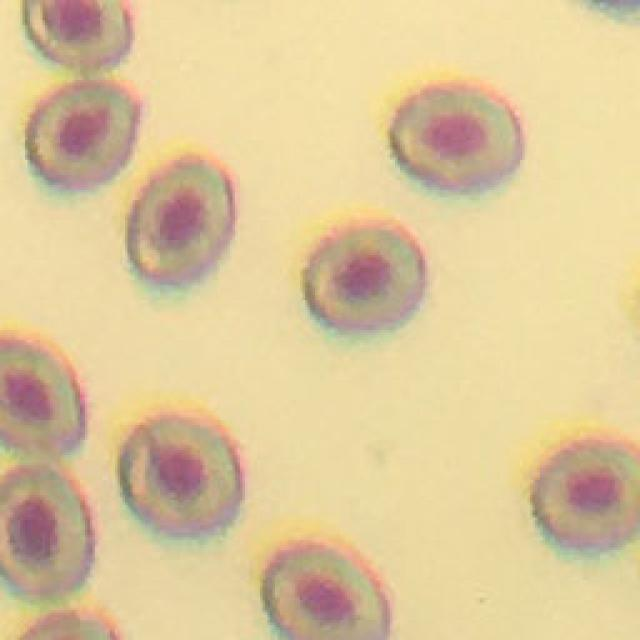RBC: (390, 77, 525, 195), (119, 414, 243, 536), (126, 158, 236, 287), (305, 225, 422, 335), (260, 540, 390, 639), (0, 465, 91, 602), (25, 81, 139, 190), (529, 441, 640, 551), (0, 343, 86, 454), (22, 1, 136, 72)
